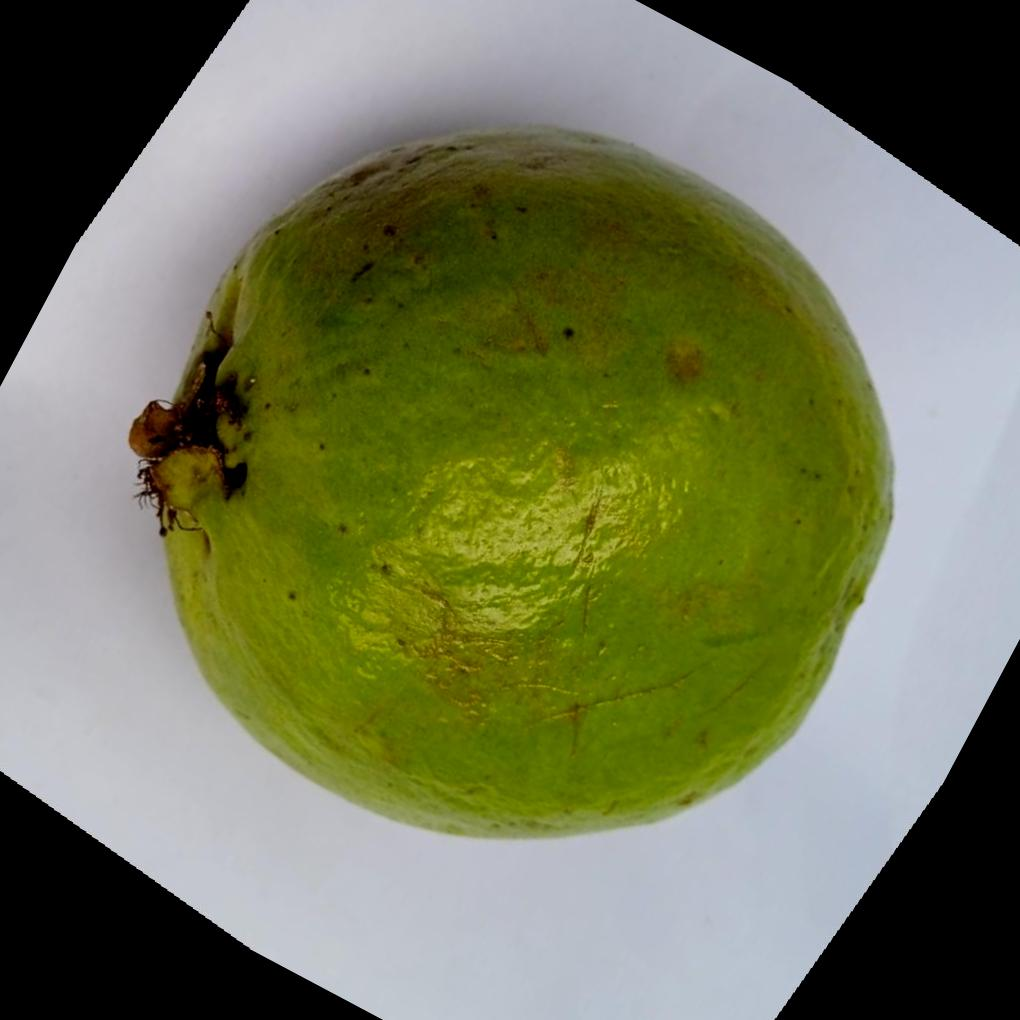FreshGuava: (127, 120, 899, 841)
